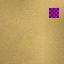structure: (17, 33, 32, 47)
